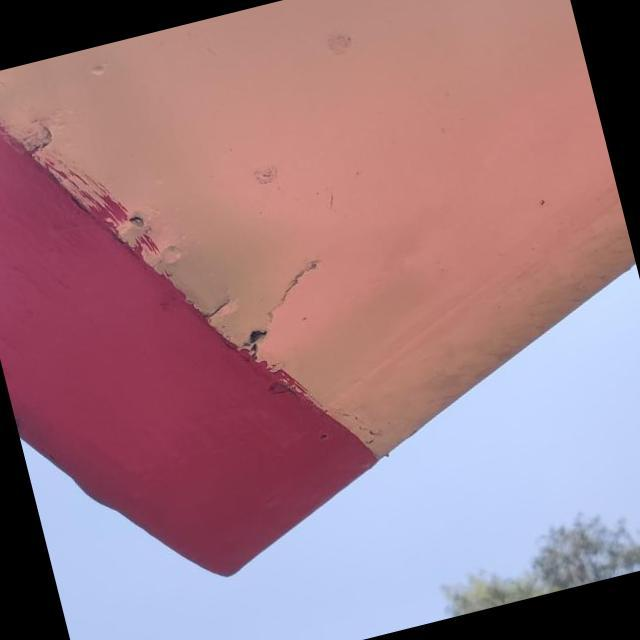Rupture: (212, 248, 349, 369), (192, 290, 243, 328)
